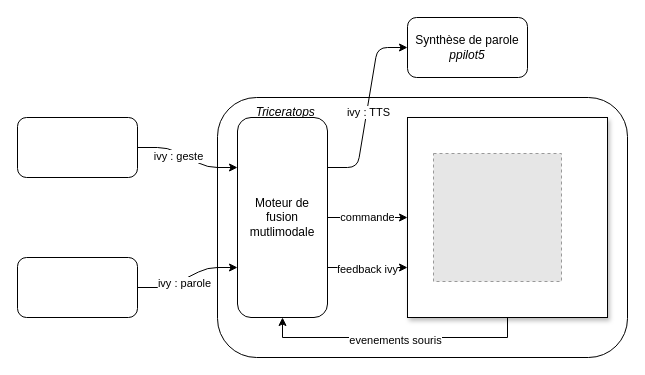
Some shapes in this 645 by 375 pixel diagram are drawn without their labels. Grey dashed boxes stand in for pictures. Each missing label, with the centre of its shape:
"Reconnaissance de gestes OneDollarIvy" goes at pixel 77 147.
"Reconnaissance de parole sra5" goes at pixel 77 287.
